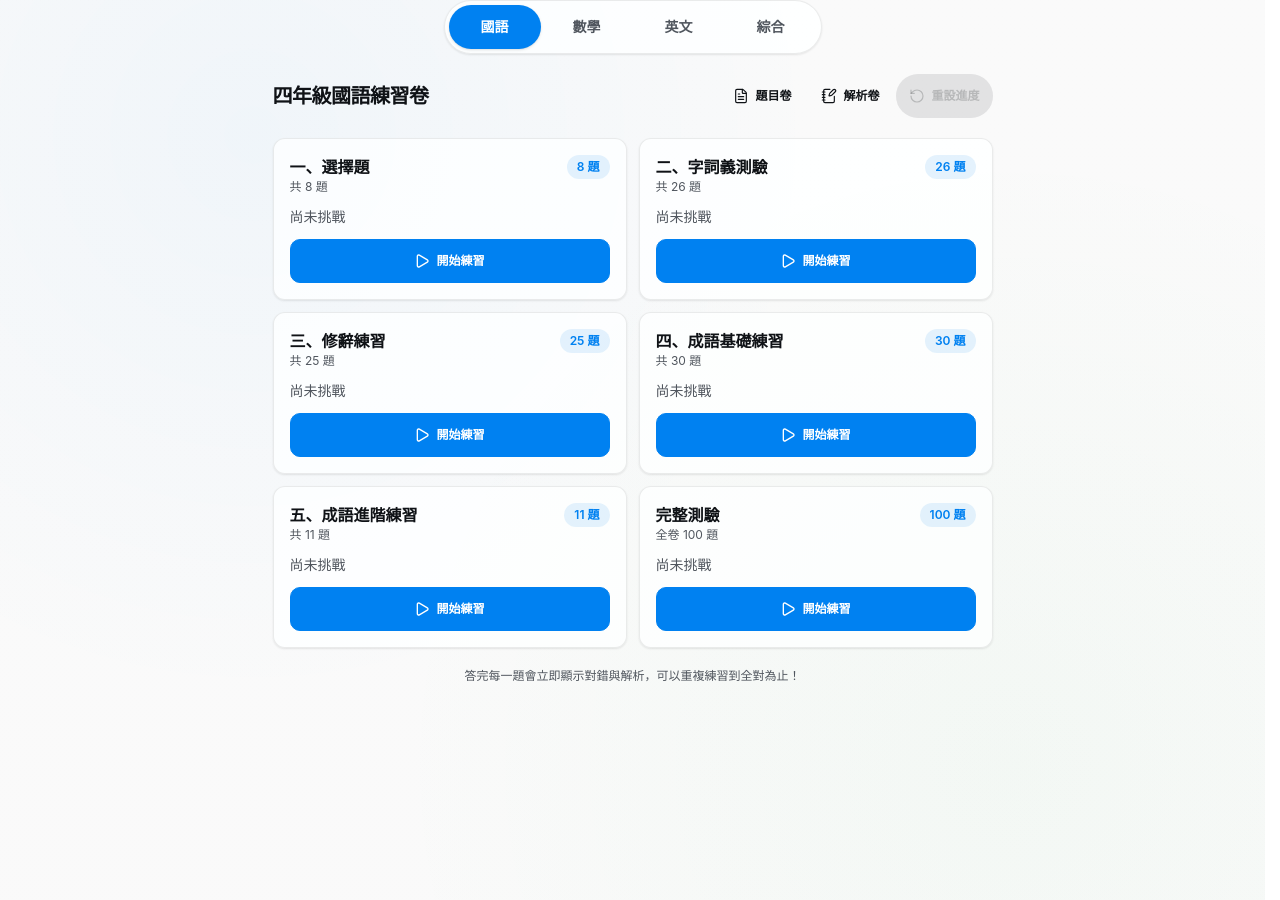
Scenario: ExamPracticePage subject query › switches to the mixed tab from a fixed subject
Click the button "綜合" at (770, 27), box [724, 5, 816, 49]
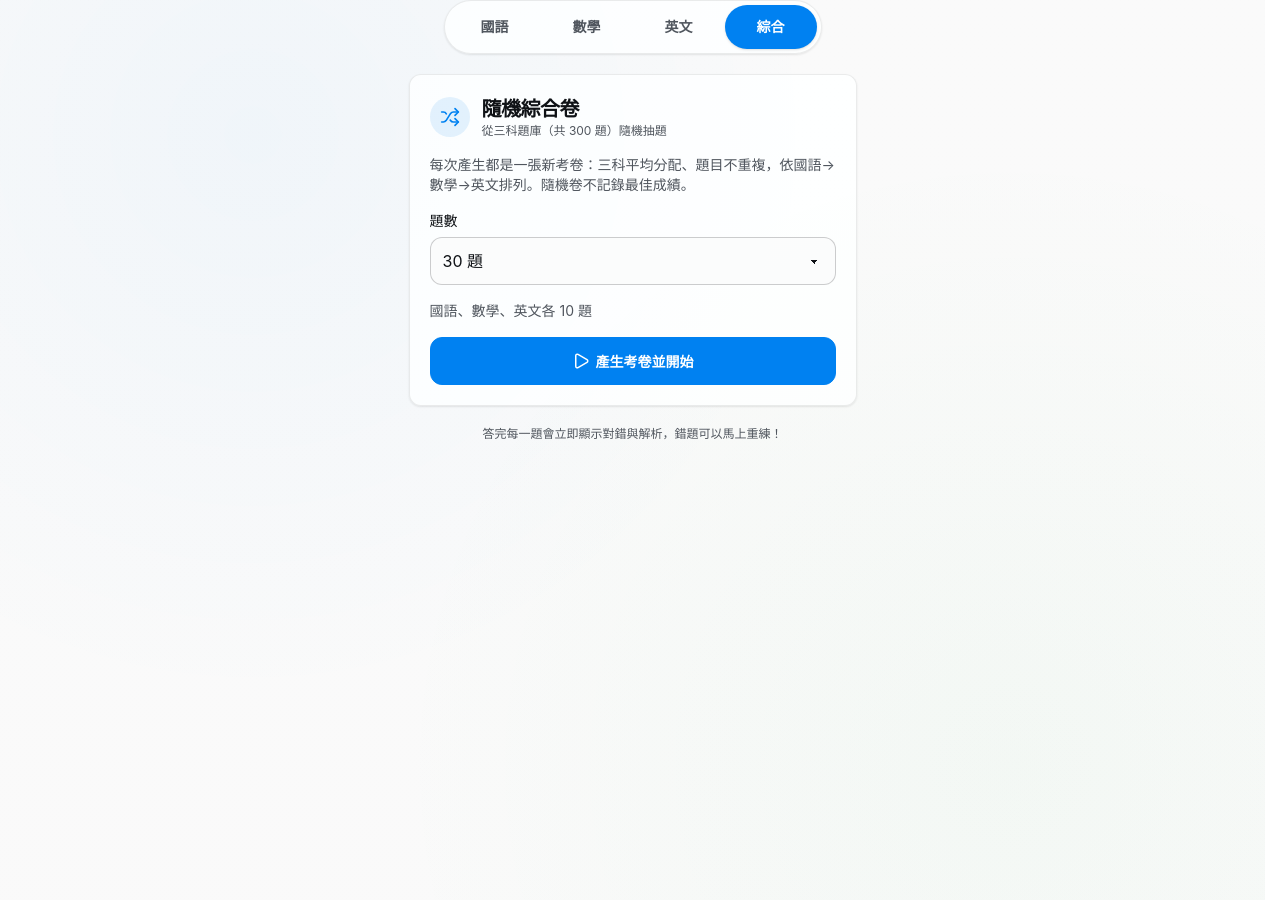
Expected: the text "隨機綜合卷" is shown, [482, 97, 579, 121]
Expected: the text "產生考卷並開始" is shown, [430, 337, 836, 385]
